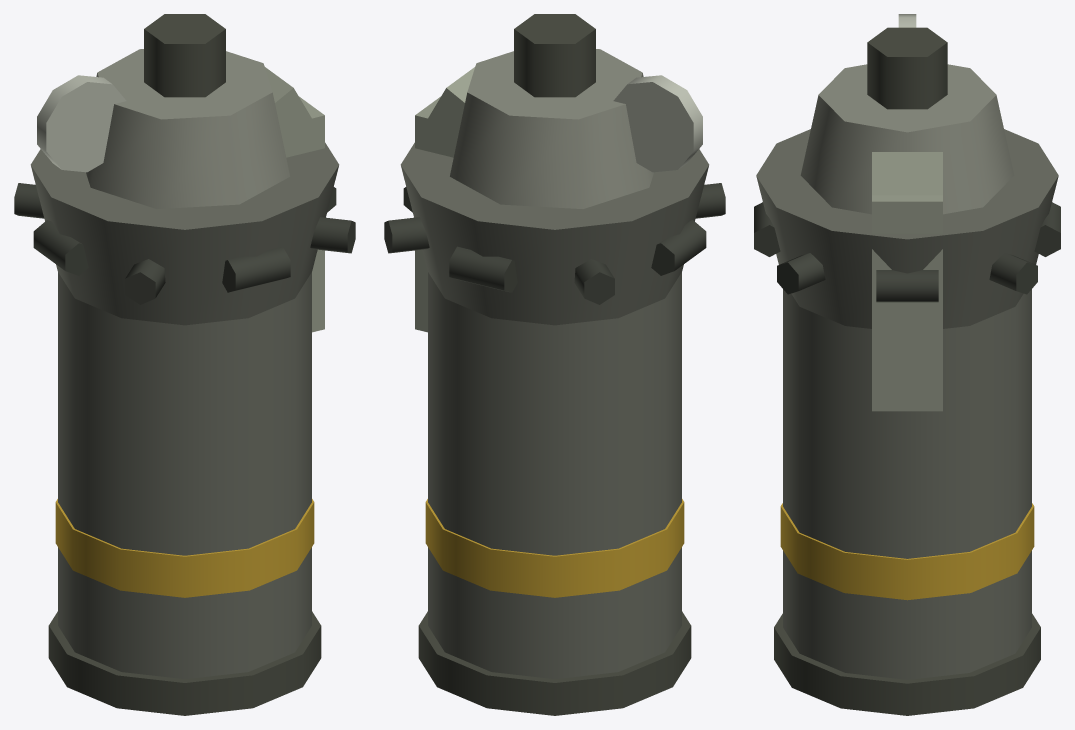
The model's file is flashbang.glb.
3 views of the same model, side by side, from view 1: azimuth 30°, elevation 25°; view 2: azimuth 150°, elevation 25°; view 3: azimuth 270°, elevation 25° (orthographic).
Visible parts, largest first — view 1: Body_Core, Body_Head, Fuse_Cap, Body_Band, Body_RimBottom, Fuse_Striker, Fuse_PullRing, Fuse_Spoon, Body_Port2, Body_Port4, Fuse_SpoonTop, Body_Port3 (+2 smaller); view 2: Body_Core, Body_Head, Fuse_Cap, Body_Band, Body_RimBottom, Fuse_Striker, Fuse_PullRing, Fuse_Spoon, Body_Port6, Body_Port4, Fuse_SpoonTop, Body_Port5 (+2 smaller); view 3: Body_Core, Body_Head, Fuse_Cap, Fuse_Spoon, Body_Band, Body_RimBottom, Fuse_Striker, Fuse_SpoonTop, Body_Port0, Body_Port1, Body_Port7, Body_Port2 (+1 smaller).
Part boxes in pixels (left/top/right/bottom): Body_Core: left=58, top=272, right=311, bottom=679; Body_Head: left=30, top=142, right=339, bottom=325; Fuse_Cap: left=86, top=49, right=289, bottom=208; Body_Band: left=55, top=499, right=314, bottom=597; Body_RimBottom: left=48, top=611, right=321, bottom=715; Fuse_Striker: left=144, top=14, right=225, bottom=97; Fuse_PullRing: left=37, top=75, right=126, bottom=172; Fuse_Spoon: left=285, top=96, right=324, bottom=332; Body_Port2: left=222, top=246, right=290, bottom=292; Body_Port4: left=33, top=220, right=88, bottom=275; Fuse_SpoonTop: left=265, top=67, right=318, bottom=153; Body_Port3: left=125, top=259, right=165, bottom=304; Body_Core: left=428, top=272, right=681, bottom=679; Body_Head: left=400, top=142, right=709, bottom=325; Fuse_Cap: left=450, top=49, right=653, bottom=208; Body_Band: left=425, top=499, right=684, bottom=597; Body_RimBottom: left=418, top=611, right=691, bottom=715; Fuse_Striker: left=514, top=14, right=595, bottom=97; Fuse_PullRing: left=613, top=75, right=702, bottom=172; Fuse_Spoon: left=415, top=96, right=454, bottom=332; Body_Port6: left=449, top=246, right=517, bottom=292; Body_Port4: left=651, top=220, right=706, bottom=275; Fuse_SpoonTop: left=423, top=67, right=474, bottom=153; Body_Port5: left=574, top=259, right=614, bottom=304; Body_Core: left=783, top=289, right=1031, bottom=679; Body_Head: left=756, top=129, right=1058, bottom=328; Fuse_Cap: left=800, top=64, right=1014, bottom=214; Fuse_Spoon: left=872, top=195, right=942, bottom=411; Body_Band: left=780, top=503, right=1034, bottom=600; Body_RimBottom: left=774, top=613, right=1040, bottom=715; Fuse_Striker: left=867, top=27, right=947, bottom=109; Fuse_SpoonTop: left=872, top=152, right=942, bottom=195; Body_Port0: left=876, top=270, right=938, bottom=302; Body_Port1: left=777, top=253, right=825, bottom=294; Body_Port7: left=989, top=253, right=1037, bottom=294; Body_Port2: left=754, top=202, right=780, bottom=256.
Bounding box in the file's own units: 0.0709 × 0.153 × 0.0689.
